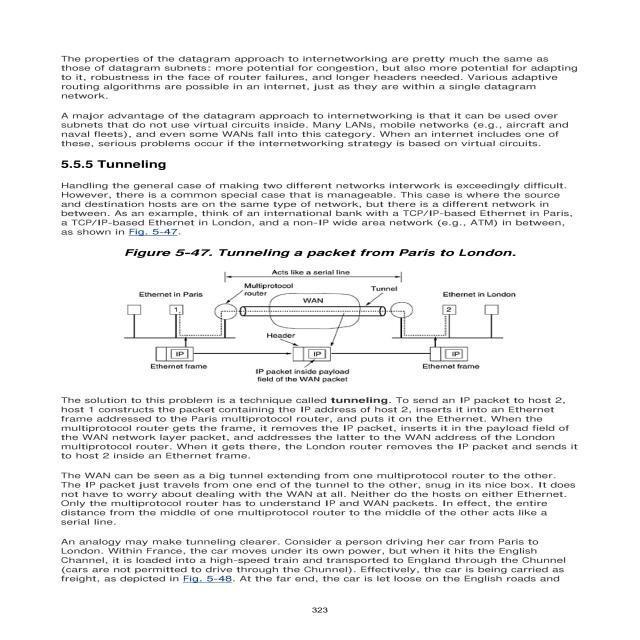diagram: (70, 246, 558, 388)
